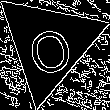O_N: (21, 13, 77, 75)
